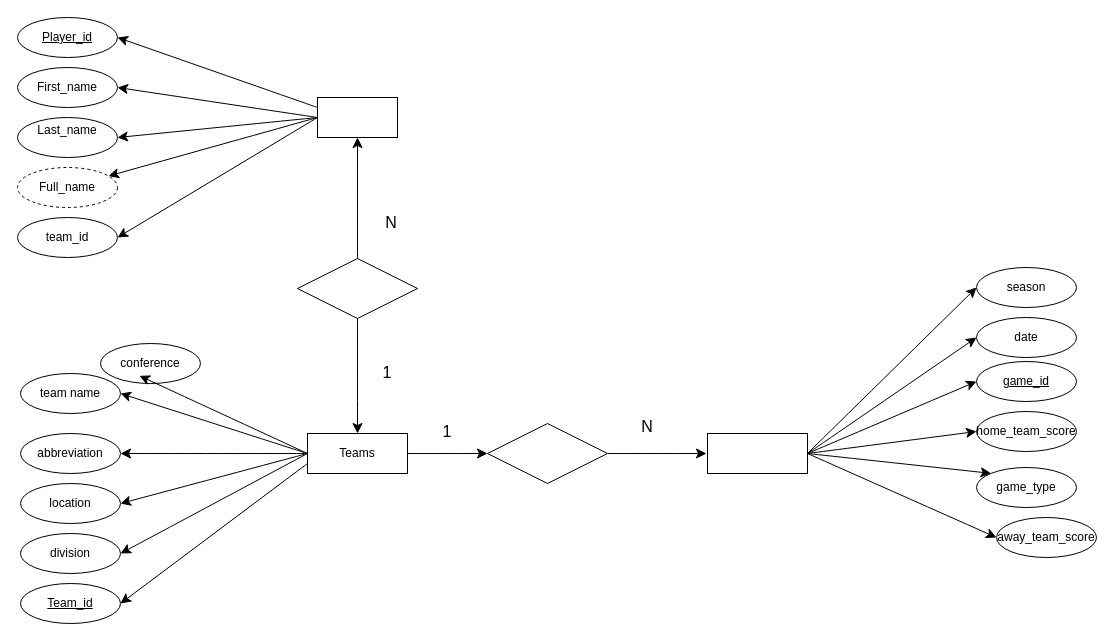
This 1114x641 diagram has some shape labels left out. The shapes that lost their labels are listed below. From the top down, each one's centre as x and y in pixels, then its label:
At (357,117): "Players".
At (357,288): "plays for".
At (547,453): "Ivolves".
At (757,453): "Games".
